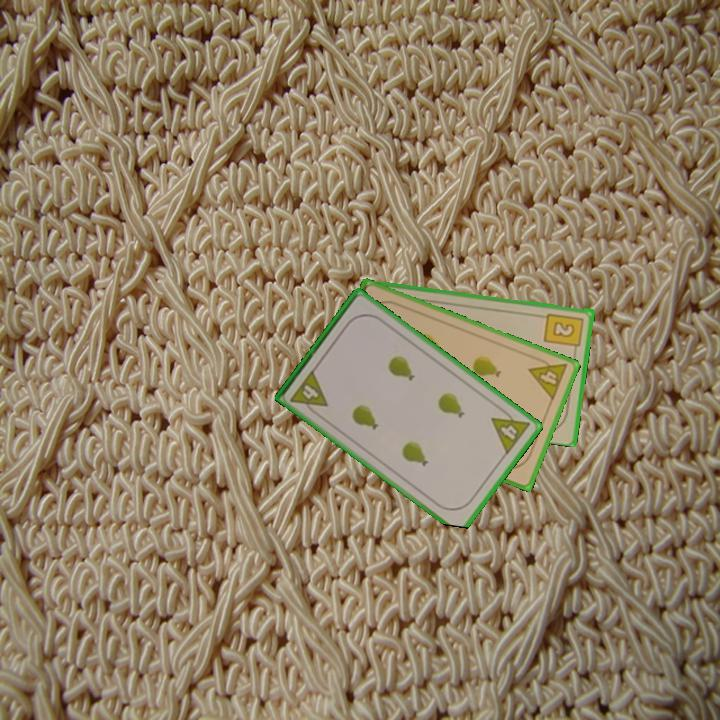2b: (541, 309, 587, 355)
4p: (488, 403, 533, 458), (287, 366, 331, 419), (525, 352, 570, 403)
